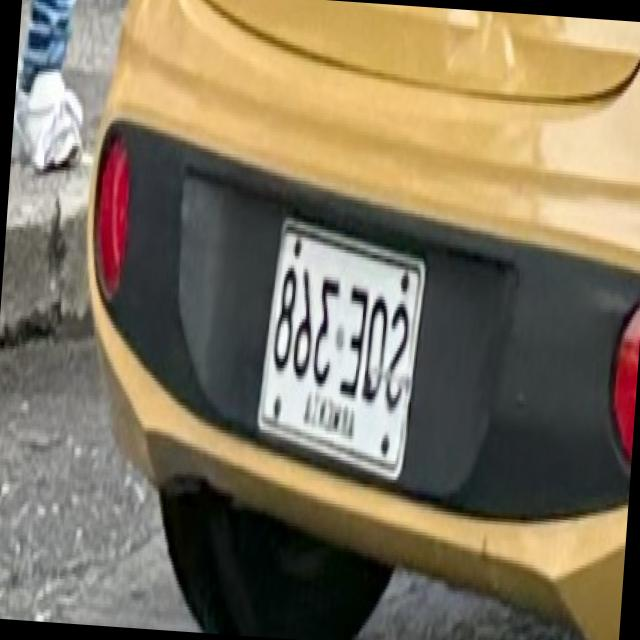number plate: (260, 214, 427, 473)
